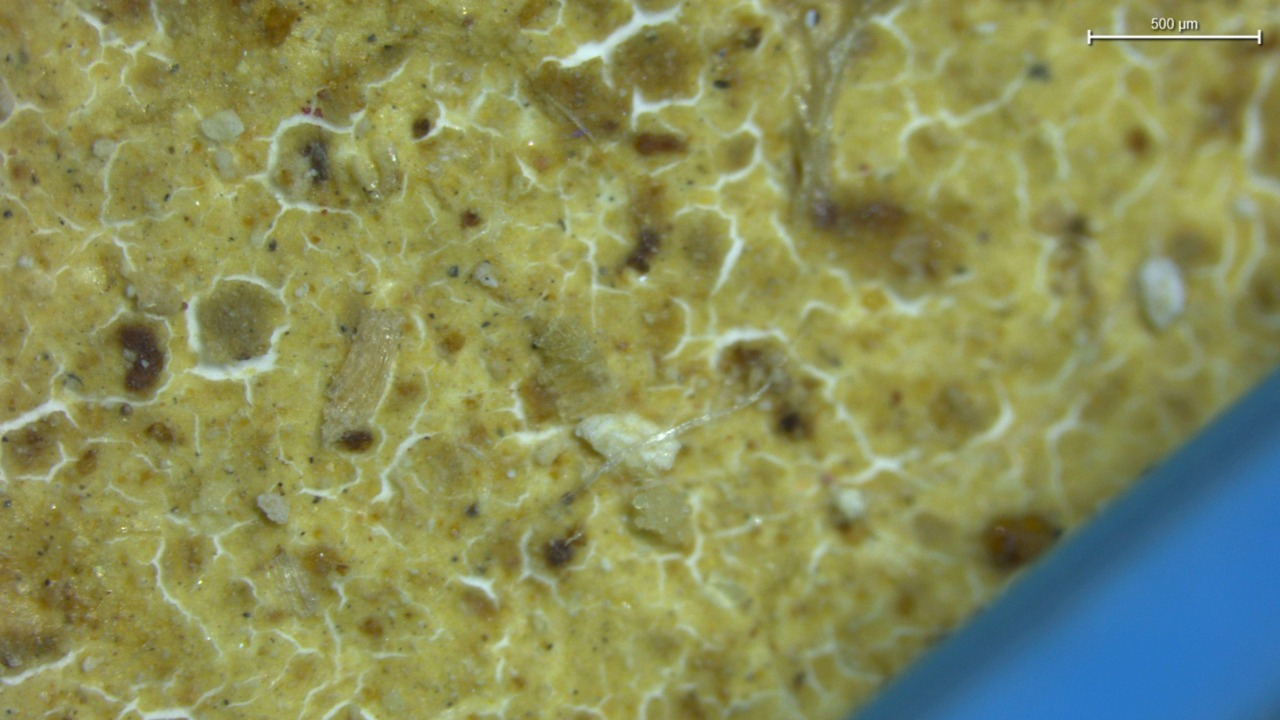microplastic_fragment: (576, 414, 680, 472), (632, 485, 691, 545)
